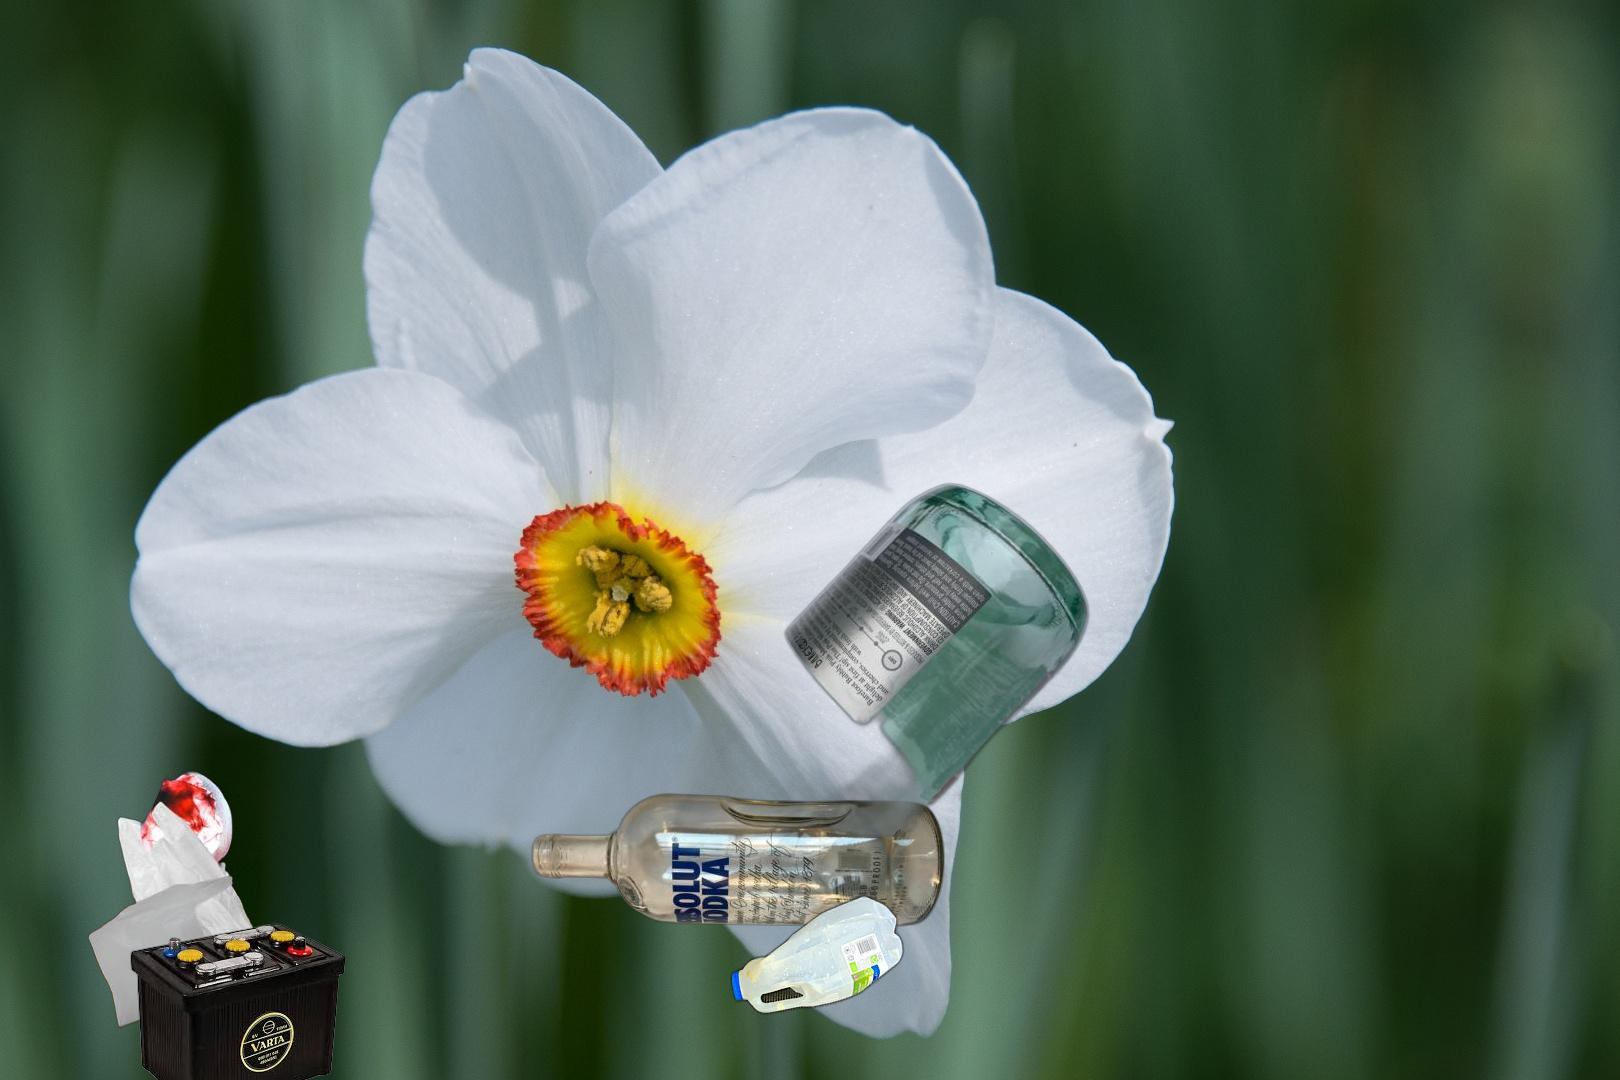battery: (128, 921, 348, 1080)
glass: (642, 480, 1092, 837), (528, 792, 949, 929)
plastic-bag: (86, 761, 270, 1031)
plastic-bottles: (727, 890, 908, 1019)
